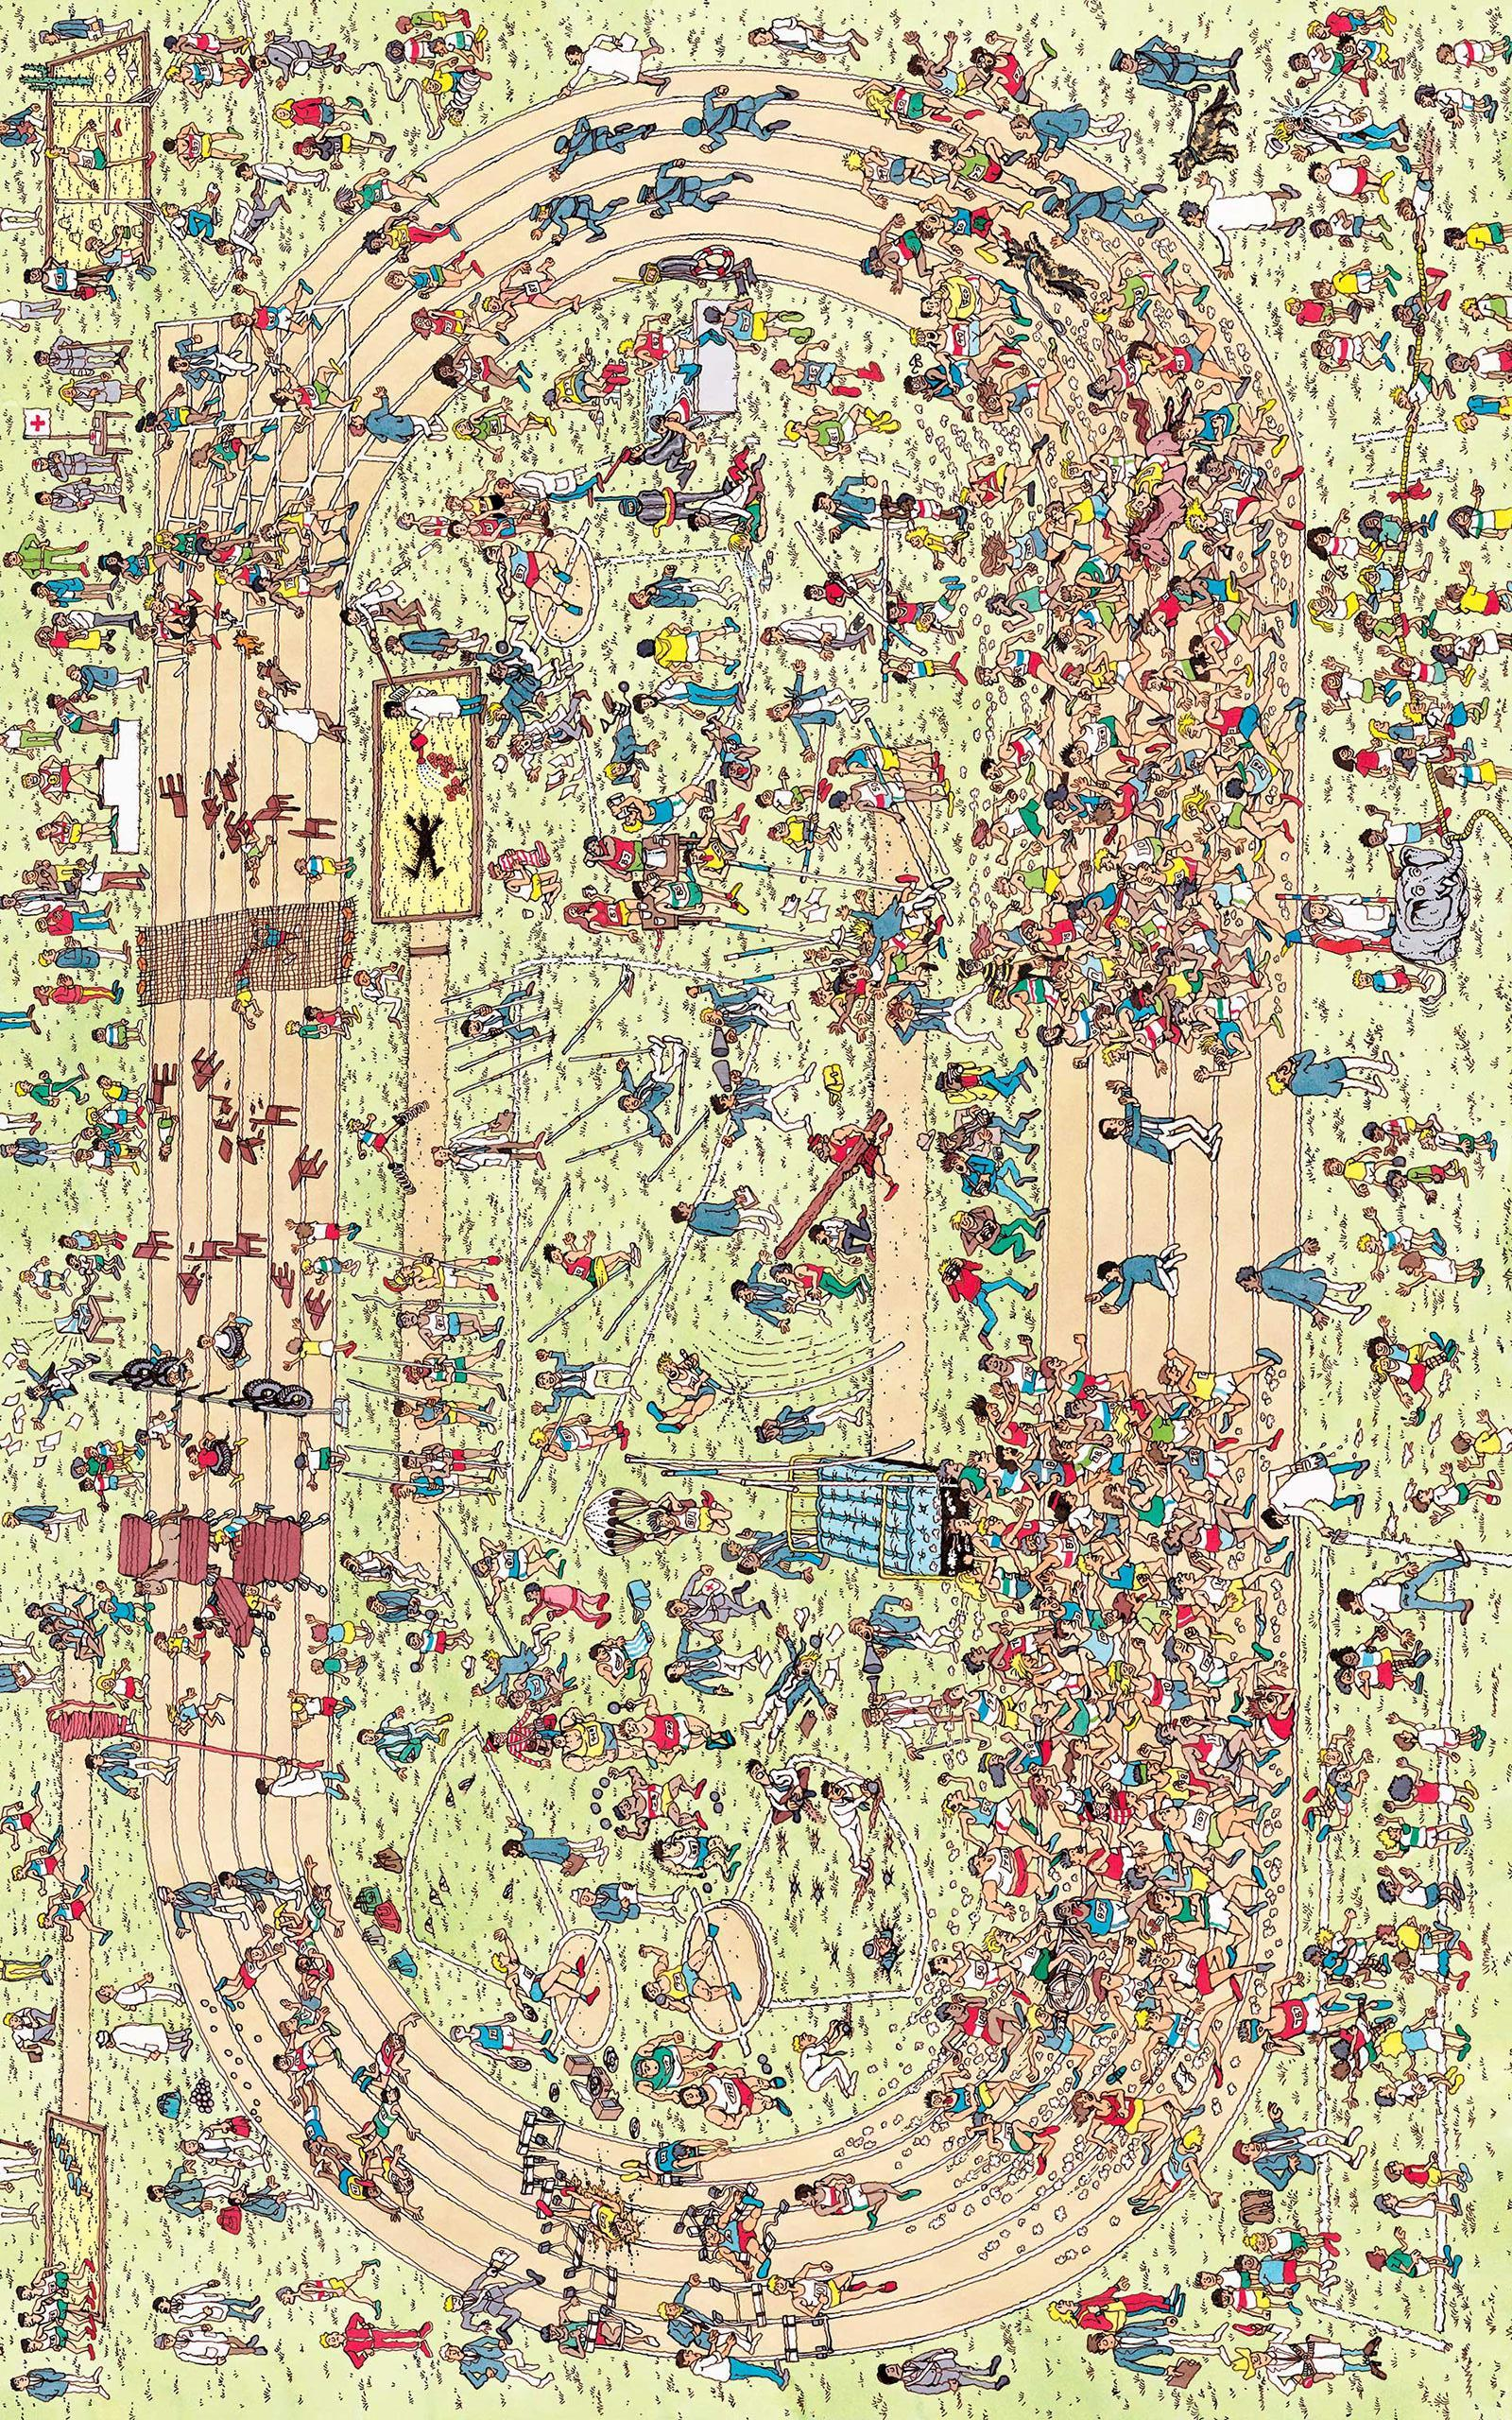waldos: (488, 1707, 561, 1768)
